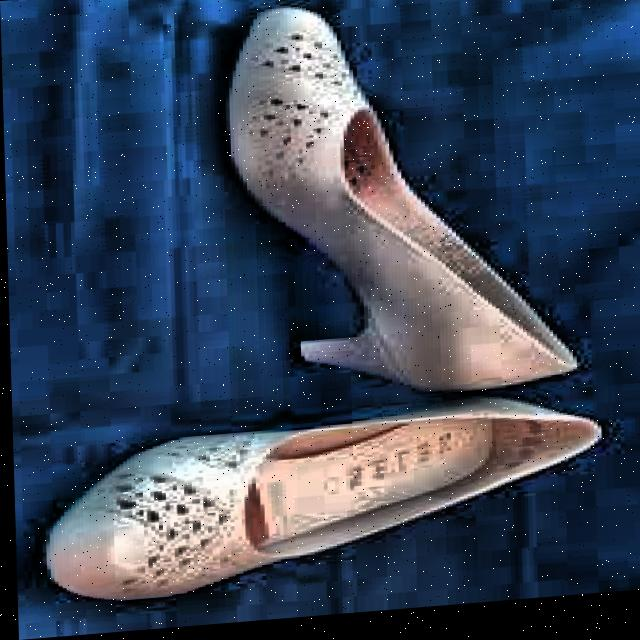shoes: (18, 0, 633, 617)
